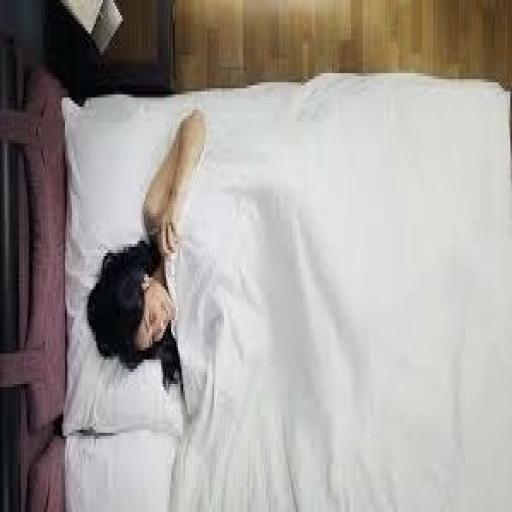sleeping: (84, 104, 209, 393)
